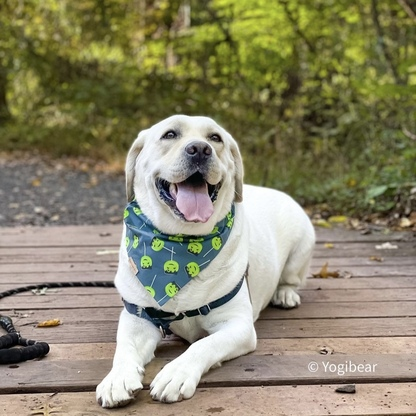labrado: (91, 110, 321, 411)
